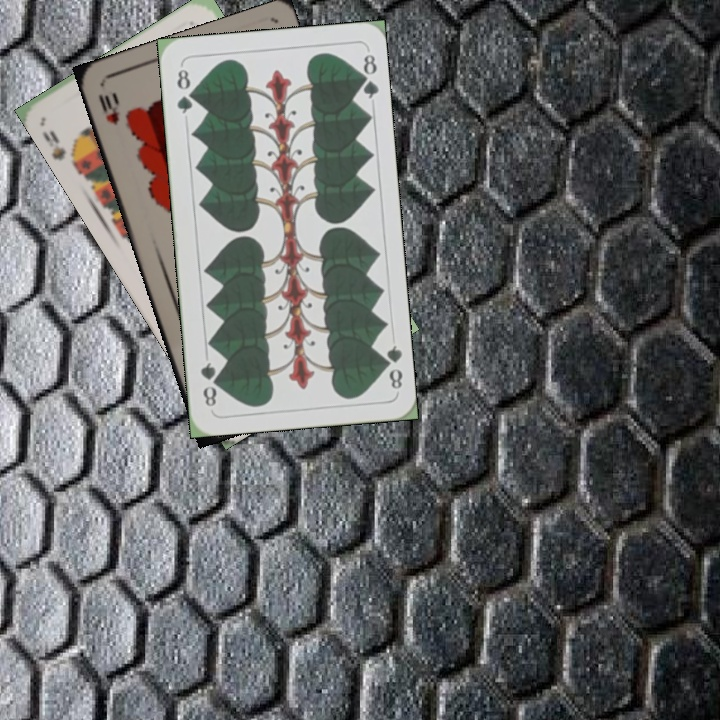G8: (377, 341, 405, 392), (172, 62, 196, 116)
H10: (94, 88, 123, 128)
S9: (38, 126, 84, 171)
